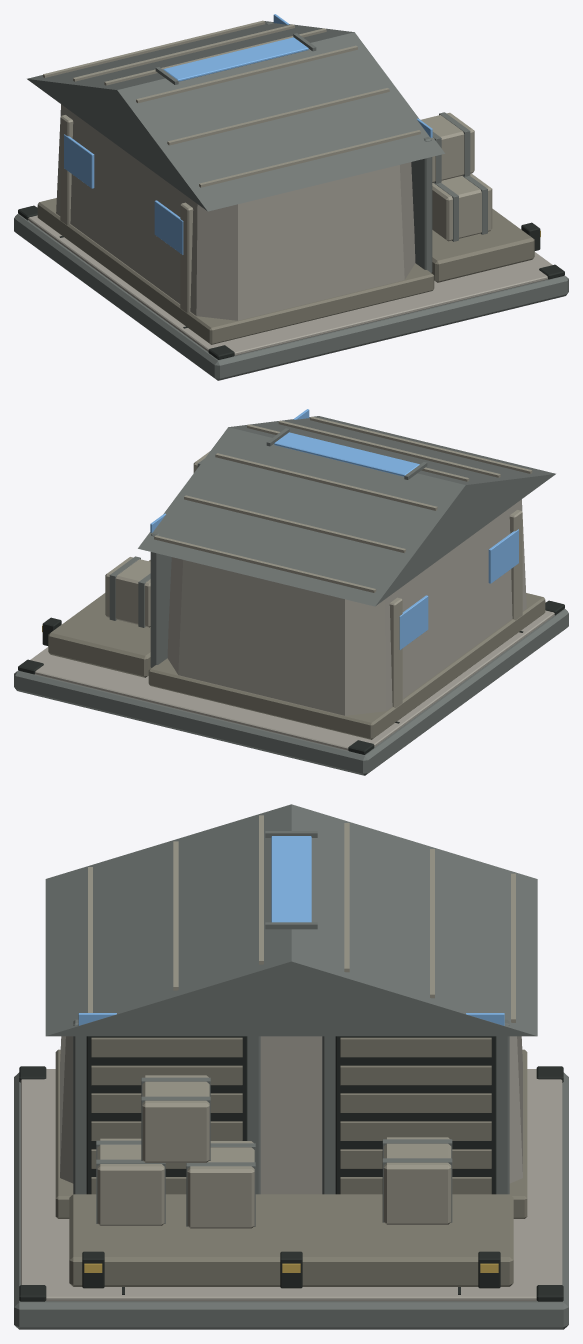
File: supply_depot.glb
The picture shows the model from 3 angles, top to bottom: view 1: azimuth 30°, elevation 25°; view 2: azimuth 150°, elevation 25°; view 3: azimuth 270°, elevation 25°; orthographic projection. The views are drawn at different scales.
Visible parts, largest first — view 1: supply_depot; view 2: supply_depot; view 3: supply_depot.
Part boxes in pixels (x1,y1,x2,y2): supply_depot: (14,14,568,380); supply_depot: (14,409,568,775); supply_depot: (14,804,568,1329).
Bounding box in the file's own units: 3.7 × 2.21 × 3.7.
